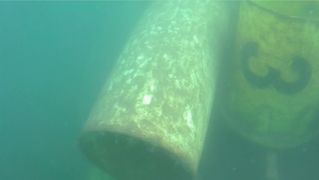3: (240, 41, 313, 96)
pipe: (74, 1, 236, 178), (218, 1, 319, 152)
